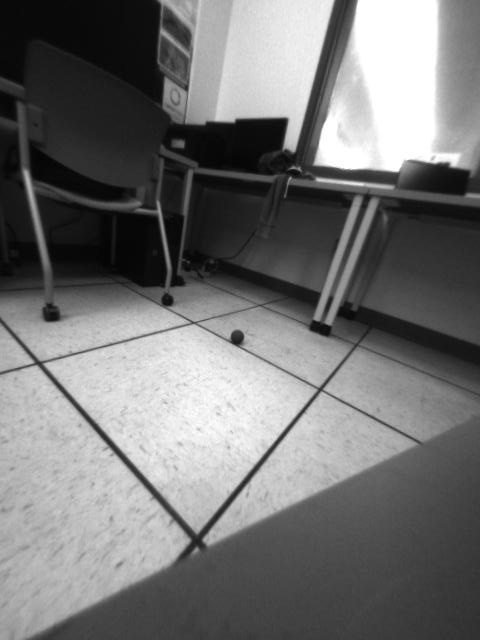dogtoy: (221, 322, 251, 350)
